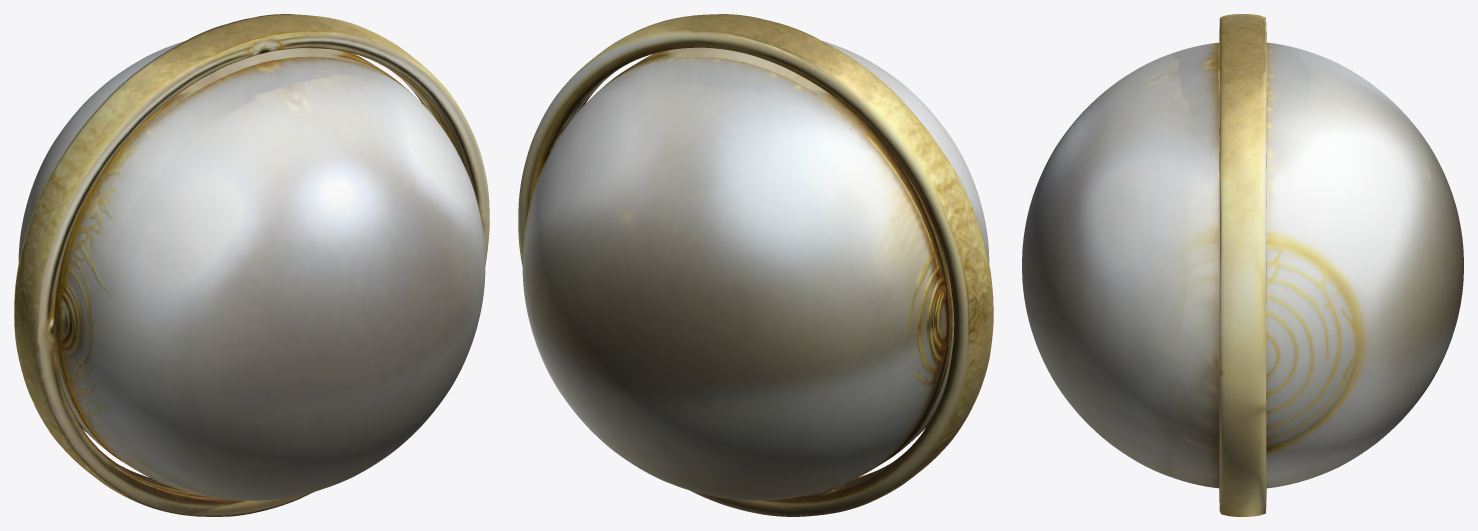
The model's file is pearl-nosepin.glb.
The picture shows the model from 3 angles, left to right: view 1: azimuth 30°, elevation 25°; view 2: azimuth 150°, elevation 25°; view 3: azimuth 270°, elevation 25°; orthographic projection. The views are drawn at different scales.
Parts seen in each view (by area): view 1: Mesh_0.001; view 2: Mesh_0.001; view 3: Mesh_0.001.
Part boxes in pixels (bbox=[...]): Mesh_0.001: bbox=[14, 14, 489, 516]; Mesh_0.001: bbox=[518, 14, 993, 516]; Mesh_0.001: bbox=[1022, 14, 1463, 516].
Size of the model in its own units: 2 by 2 by 1.75.
1 material, 1 textured.
